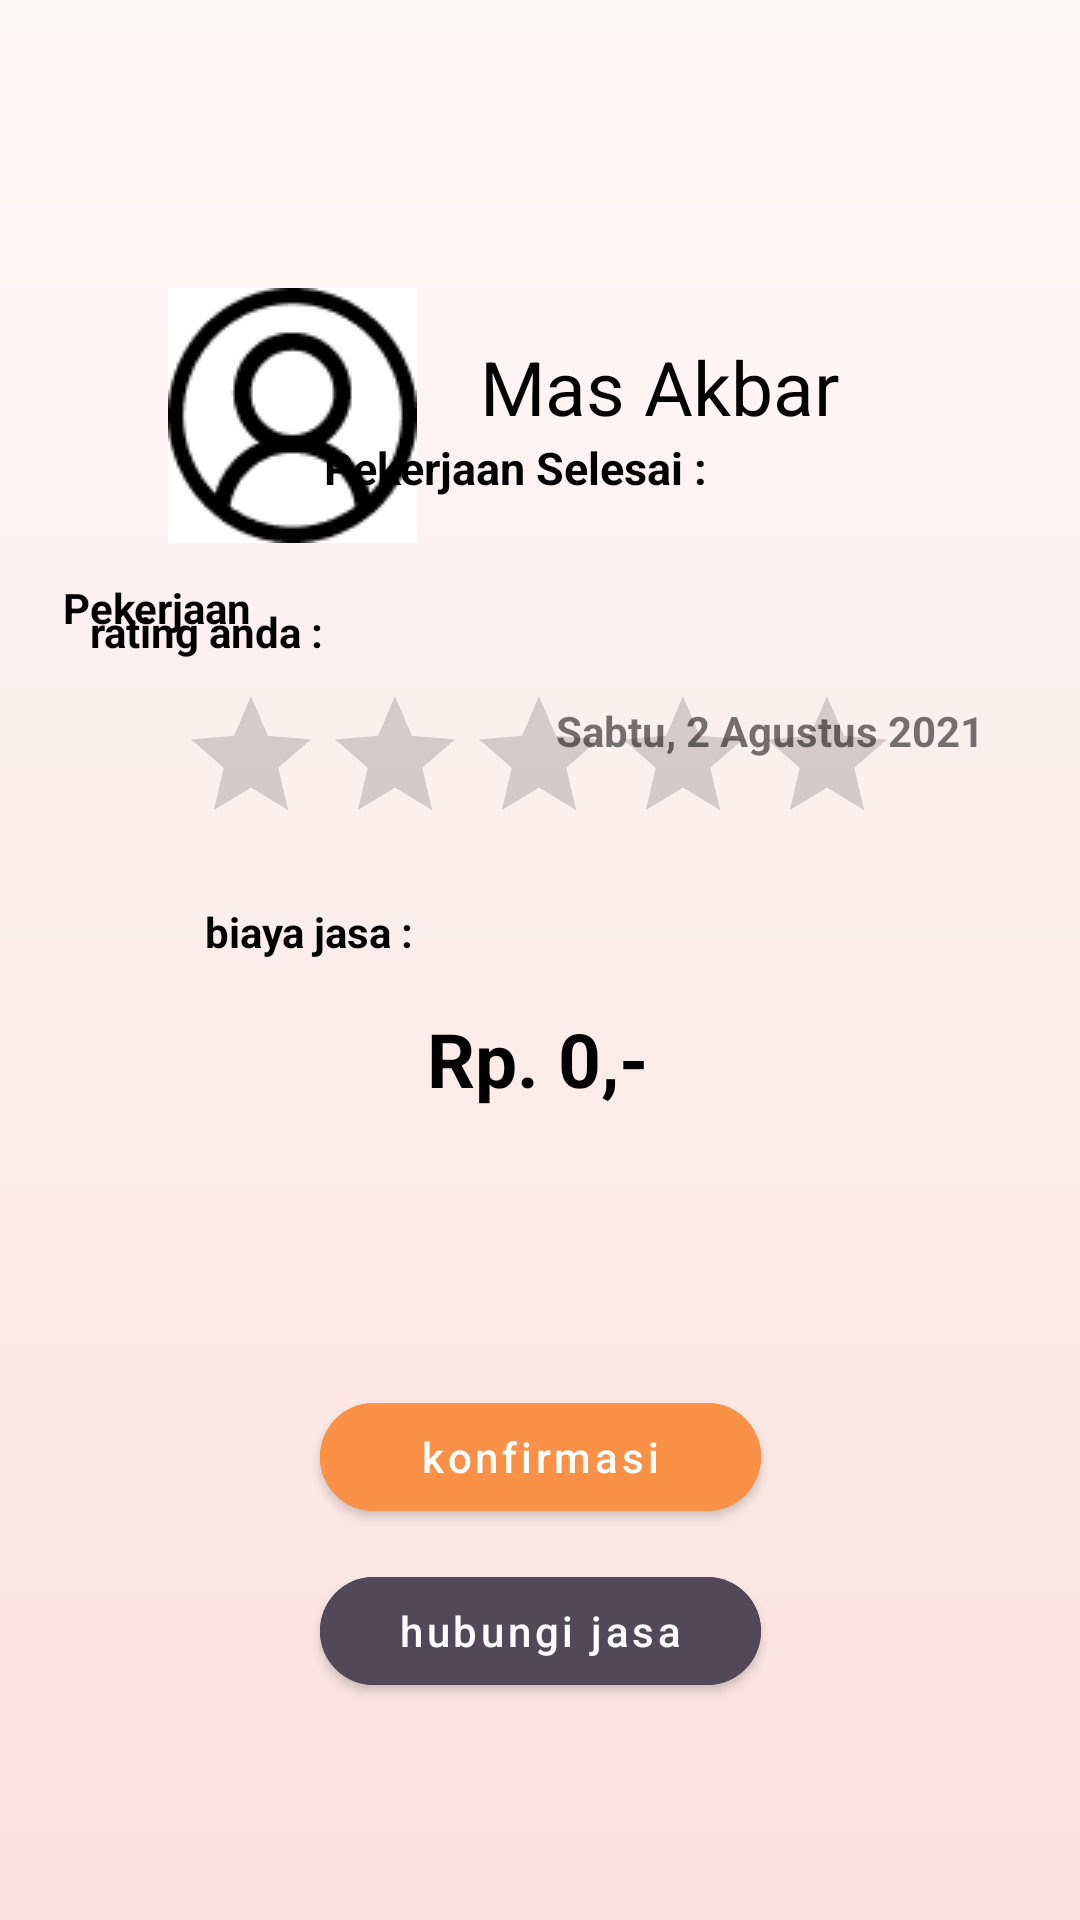

Icons on this 1080 x 1920 Android screen, each with its box as (x1,y1,x2,y2):
codicon account: (168,288,417,543)
